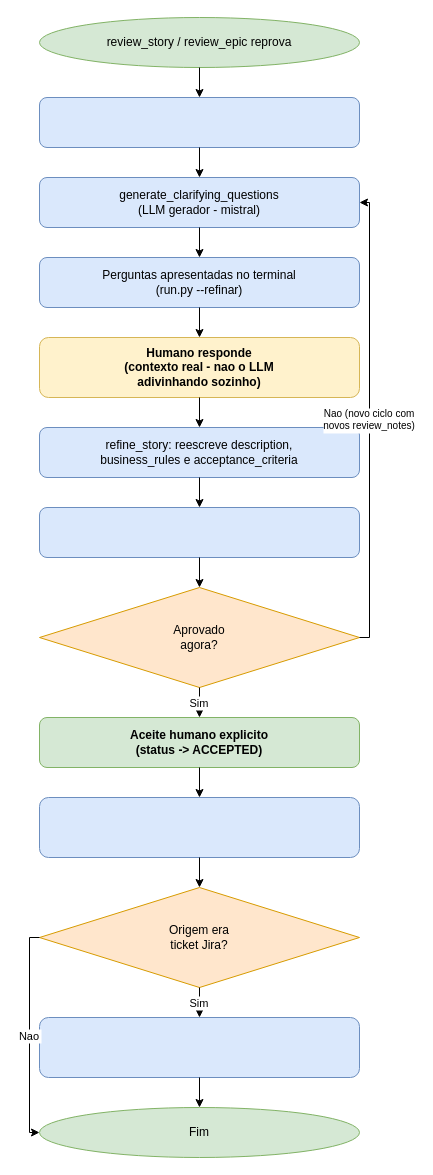
This 433x1175 diagram has some shape labels left out. The shapes that lost their labels are listed below. From the top down, each one's centre as x and y in pixels, then its label:
the point at 199,122: review_notes: apontamentos concretos (ex.: criterio nao cobre caso de erro X)
the point at 199,532: Revalida: validate_story + review_story
the point at 199,827: diff_story_versions: changelog (regras/criterios novos vs. descontinuados)
the point at 199,1047: Pergunta se persiste no ticket -> update_jira_issue
